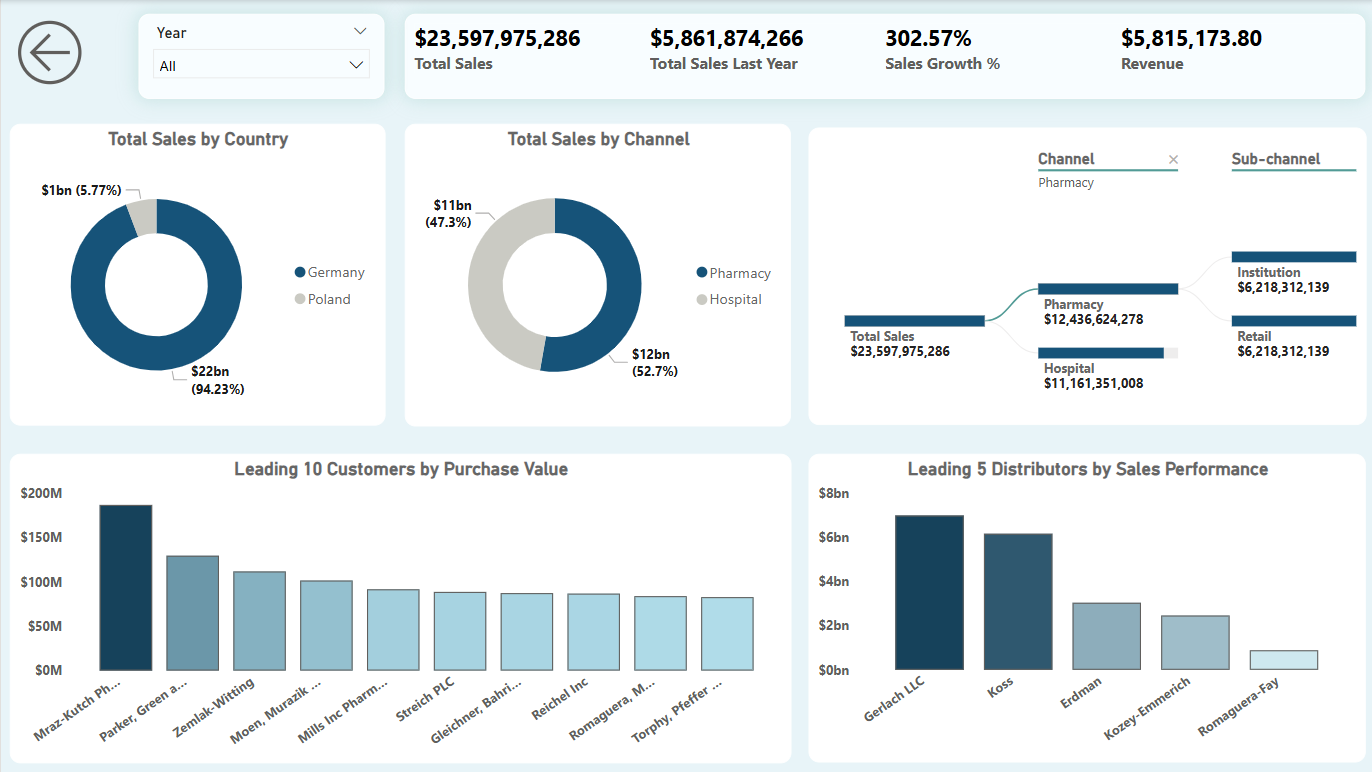

This screenshot's page, from the dashboard's own definition file:
{"tool":"powerbi","page":{"name":"Customer & Distributer","canvas":[1280,720],"ordinal":2},"visuals":[{"type":"columnChart","title":"Leading 10 Customers by Purchase Value","fields":{"Y":["_Measures.Total Sales"],"Category":["Dim_Customer.Customer Name"]},"box":[8.6,421.9,726.9,287.9],"z":0},{"type":"decompositionTreeVisual","fields":{"ExplainBy":["Dim_Channel.Channel","Dim_Channel.Sub-channel"],"Analyze":["_Measures.Total Sales"]},"box":[751.2,118.3,518.8,276.5],"z":1000},{"type":"donutChart","fields":{"Category":["Dim_Customer.Country"],"Y":["_Measures.Total Sales"]},"box":[8.6,115.5,349.2,280.8],"z":2000},{"type":"donutChart","fields":{"Y":["_Measures.Total Sales"],"Category":["Dim_Channel.Channel"]},"box":[375.4,114.9,359.5,281.3],"z":3000},{"type":"lineStackedColumnComboChart","title":"Leading 5 Distributors by Sales Performance","fields":{"Category":["Dim_Distributer.Distributor"],"Y":["_Measures.Total Sales"]},"box":[751.2,422.1,518.6,287.2],"z":4000},{"type":"multiRowCard","fields":{"Values":["_Measures.Total Sales","_Measures.Total Sales Last Year","_Measures.Sales Growth %","_Measures.Revenue"]},"box":[375.3,12.4,893.8,78.9],"z":5000},{"type":"slicer","fields":{"Values":["fSales.Year"]},"box":[127.9,12.8,229.1,79.1],"z":6000},{"type":"actionButton","box":[8.4,12,93.7,74.4],"z":7000}]}

Visuals, with their boxes in screenshot pixels (x1, y1, x2, y2), scaled from the page's 1280x720 canvas onto the 1372x772 screenshot:
"Leading 10 Customers by Purchase Value" columnChart: (9, 452, 788, 761)
decompositionTreeVisual - Dim_Channel.Channel x Dim_Channel.Sub-channel: (805, 127, 1361, 423)
donutChart - Dim_Customer.Country x _Measures.Total Sales: (9, 124, 384, 425)
donutChart - _Measures.Total Sales x Dim_Channel.Channel: (402, 123, 788, 425)
"Leading 5 Distributors by Sales Performance" lineStackedColumnComboChart: (805, 453, 1361, 761)
multiRowCard - _Measures.Total Sales x _Measures.Total Sales Last Year: (402, 13, 1360, 98)
slicer - fSales.Year: (137, 14, 383, 99)
actionButton: (9, 13, 109, 93)
